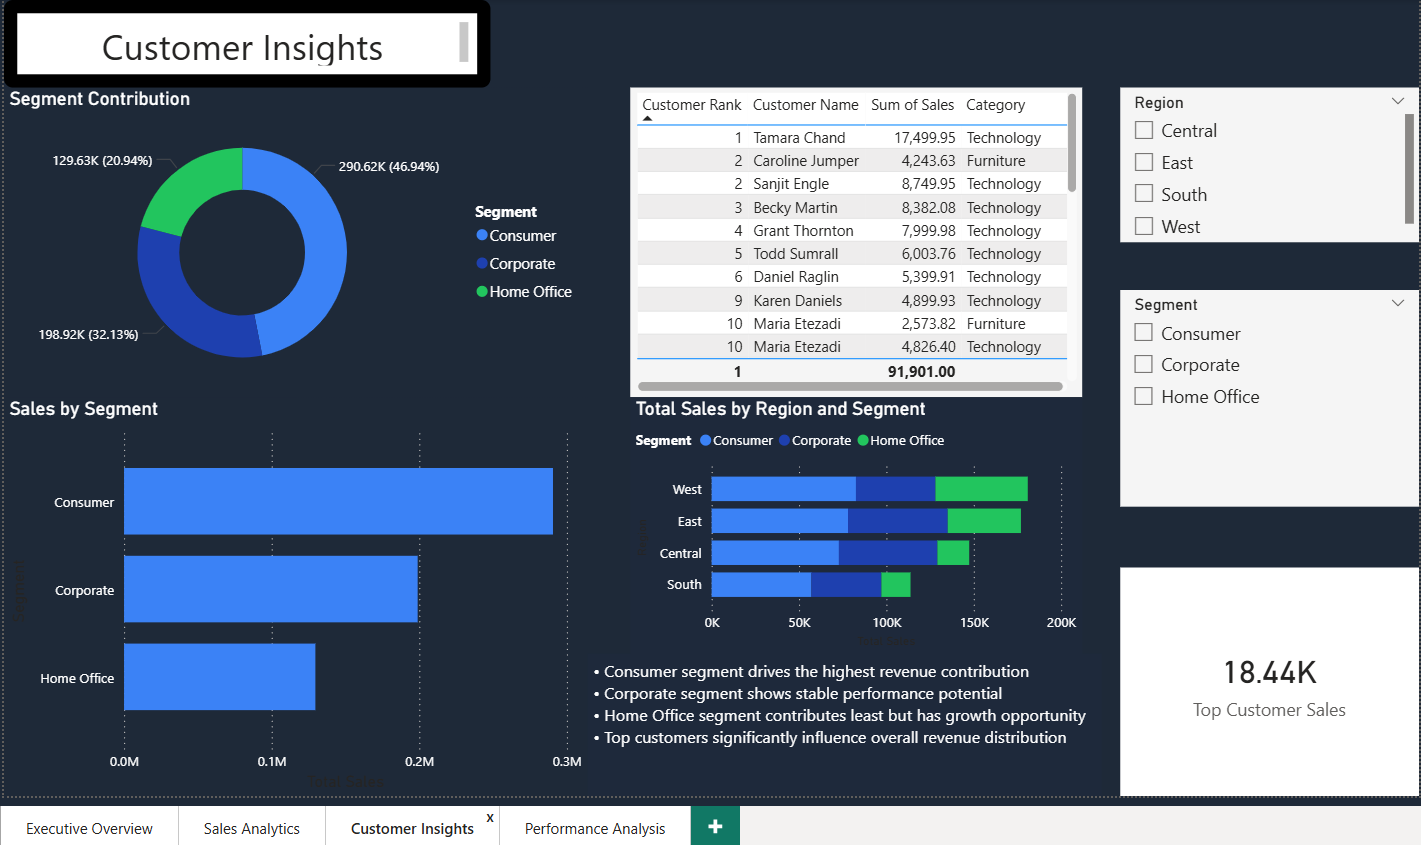

The dashboard page shown, as its layout file describes it:
{"tool":"powerbi","page":{"name":"Customer Insights","canvas":[1280,720],"ordinal":2},"visuals":[{"type":"donutChart","title":"Segment Contribution","fields":{"Category":["train.Segment"],"Y":["train.Total Sales"]},"box":[0,79.6,528.3,279.9],"z":0},{"type":"barChart","title":"Sales by Segment","fields":{"Category":["train.Segment"],"Y":["train.Total Sales"]},"box":[0,359.5,528.3,360.9],"z":1000},{"type":"tableEx","fields":{"Values":["train.Customer Rank","train.Customer Name","Sum(train.Sales)","train.Category"]},"box":[566.7,79.6,408.9,279.9],"z":2000},{"type":"slicer","fields":{"Values":["train.Segment"]},"box":[1010,262.1,270.3,196.2],"z":3000},{"type":"slicer","fields":{"Values":["train.Region"]},"box":[1010,79.6,270.3,140],"z":4000},{"type":"textbox","box":[528.3,591.4,465.2,129],"z":5000},{"type":"textbox","box":[0,0,439.8,79.1],"z":6000},{"type":"barChart","fields":{"Category":["train.Region"],"Y":["train.Total Sales"],"Series":["train.Segment"]},"box":[566.7,359.5,408.9,231.9],"z":7000},{"type":"card","fields":{"Values":["train.Top Customer Sales"]},"box":[1010,513.2,270.3,207.2],"z":7001}]}

Visuals, with their boxes on the page's 1280x720 design canvas (x1, y1, x2, y2). These are canvas units, not pixel positions in the 1421x845 screenshot, which may show the page scaled, cropped or inside an application window:
"Segment Contribution" donutChart: Rect(0, 80, 528, 360)
"Sales by Segment" barChart: Rect(0, 360, 528, 720)
tableEx - train.Customer Rank x train.Customer Name: Rect(567, 80, 976, 360)
slicer - train.Segment: Rect(1010, 262, 1280, 458)
slicer - train.Region: Rect(1010, 80, 1280, 220)
textbox: Rect(528, 591, 994, 720)
textbox: Rect(0, 0, 440, 79)
barChart - train.Region x train.Total Sales: Rect(567, 360, 976, 591)
card - train.Top Customer Sales: Rect(1010, 513, 1280, 720)
